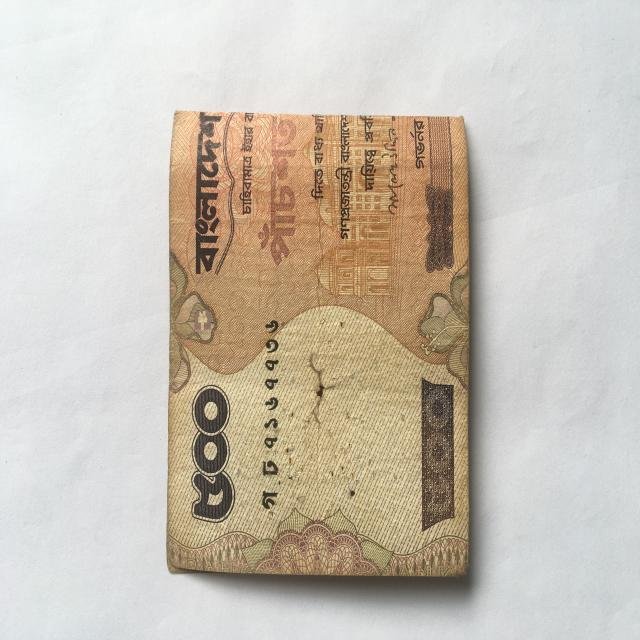Taka: (163, 93, 477, 582)
